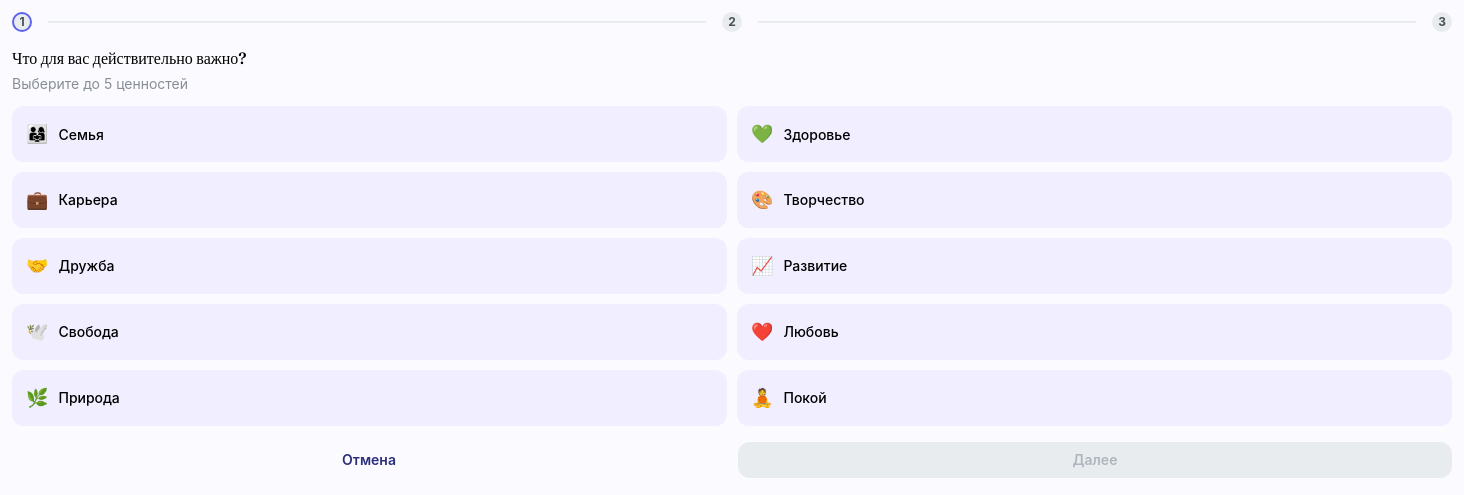
Test case: ValuesDiaryForm › navigates to step 3 (action)
Click the text "Семья".
click(81, 134)  # box [58,124,104,145]
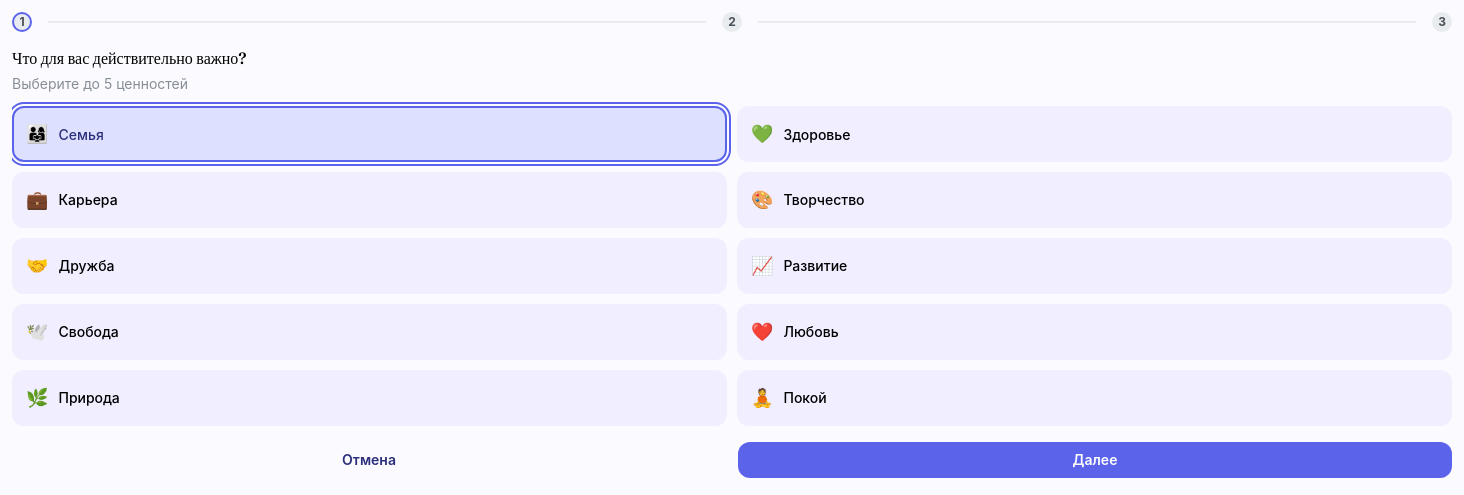
Click the button "Далее".
click(1095, 460)  # box [738,442,1452,478]
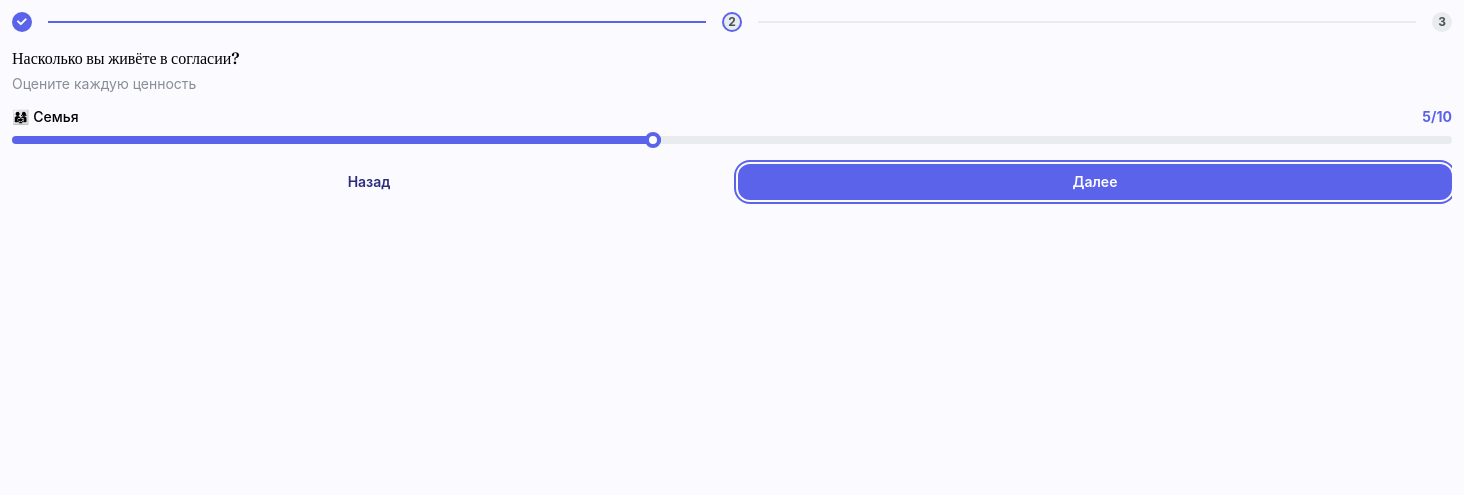
Click the button "Далее".
click(1095, 182)  # box [738,164,1452,200]
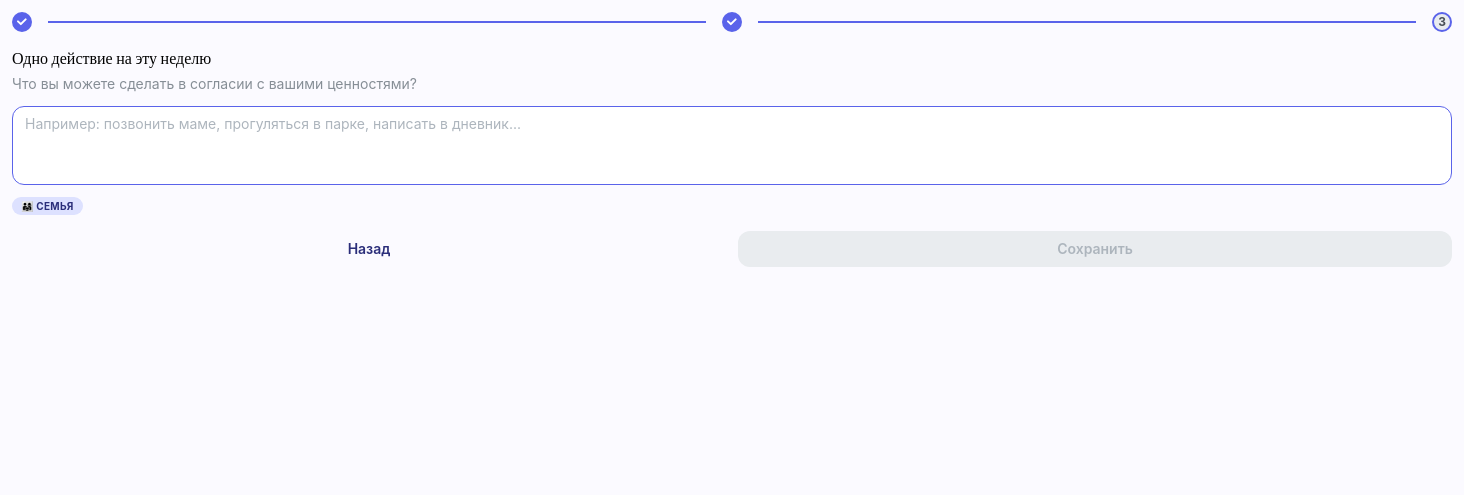
Now the heading "Одно действие на эту неделю" is shown, box [12,48,211,68]
